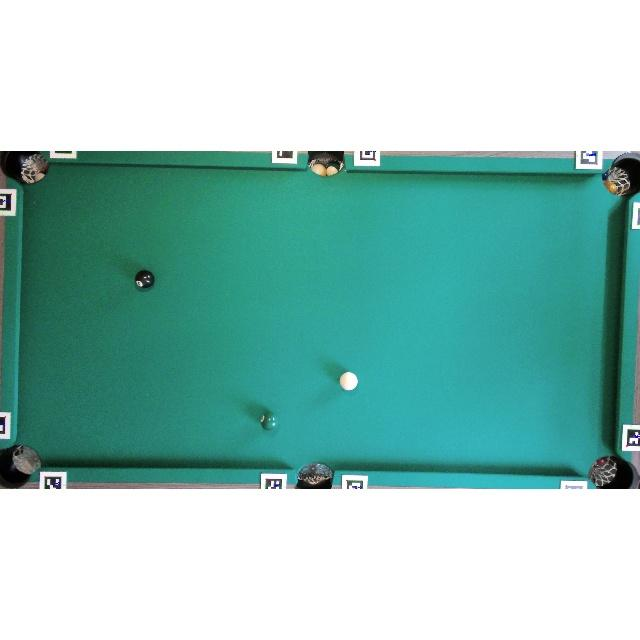cue ball: (339, 370, 359, 391)
other: (260, 411, 282, 432), (134, 269, 155, 289)
